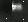person: (14, 1, 22, 14)
